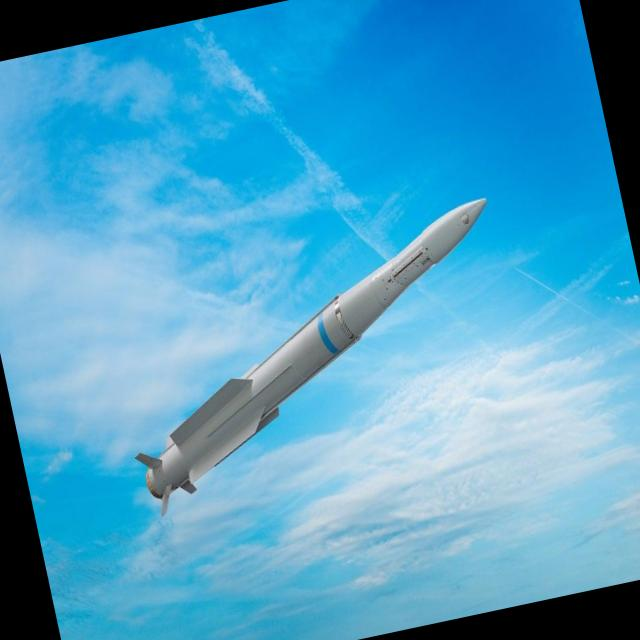rocket: (90, 186, 537, 517)
